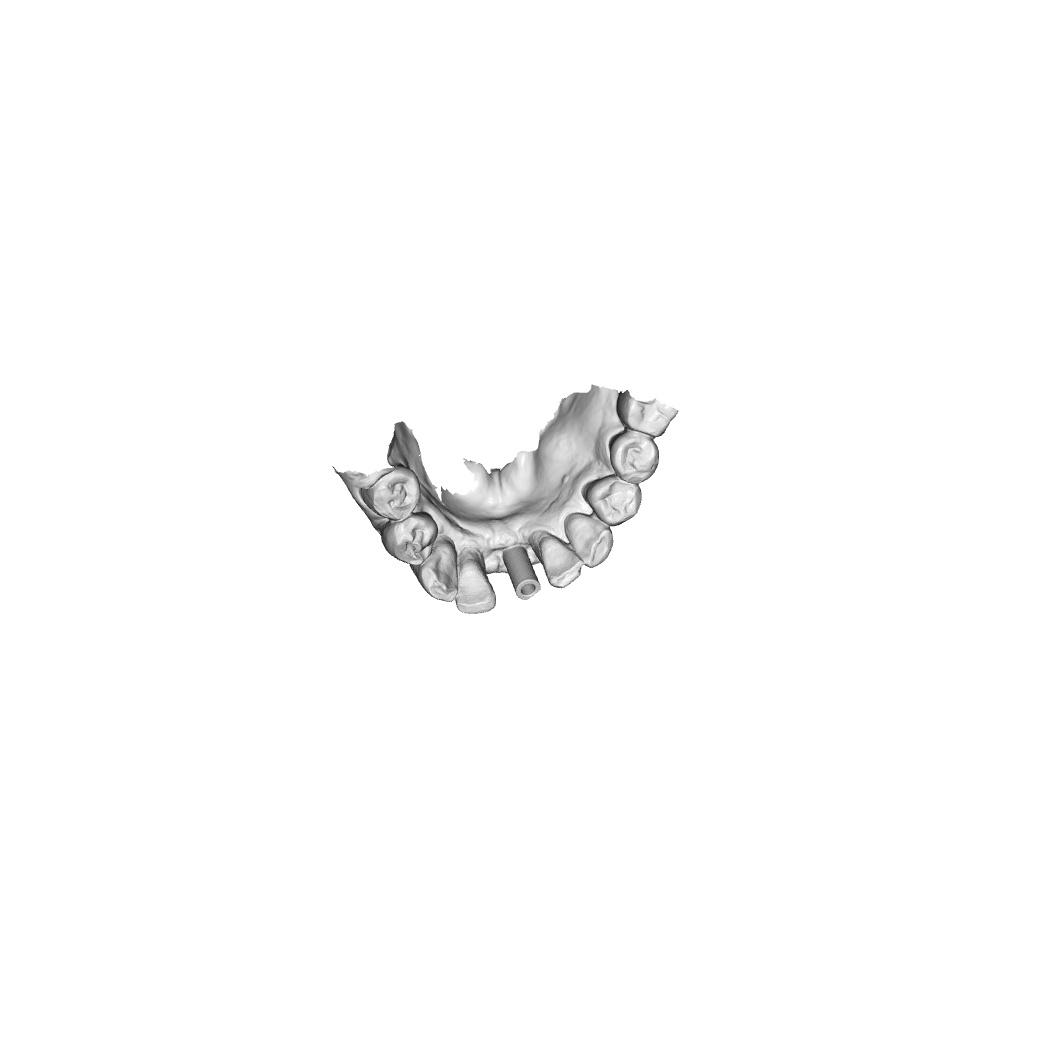canine: (582, 472, 643, 527), (410, 536, 459, 602)
implant: (501, 544, 542, 601)
incisor: (528, 528, 585, 589), (562, 511, 614, 569), (455, 545, 497, 615)
premolar: (359, 463, 423, 523), (380, 511, 439, 567), (616, 391, 679, 439), (608, 429, 660, 485)
